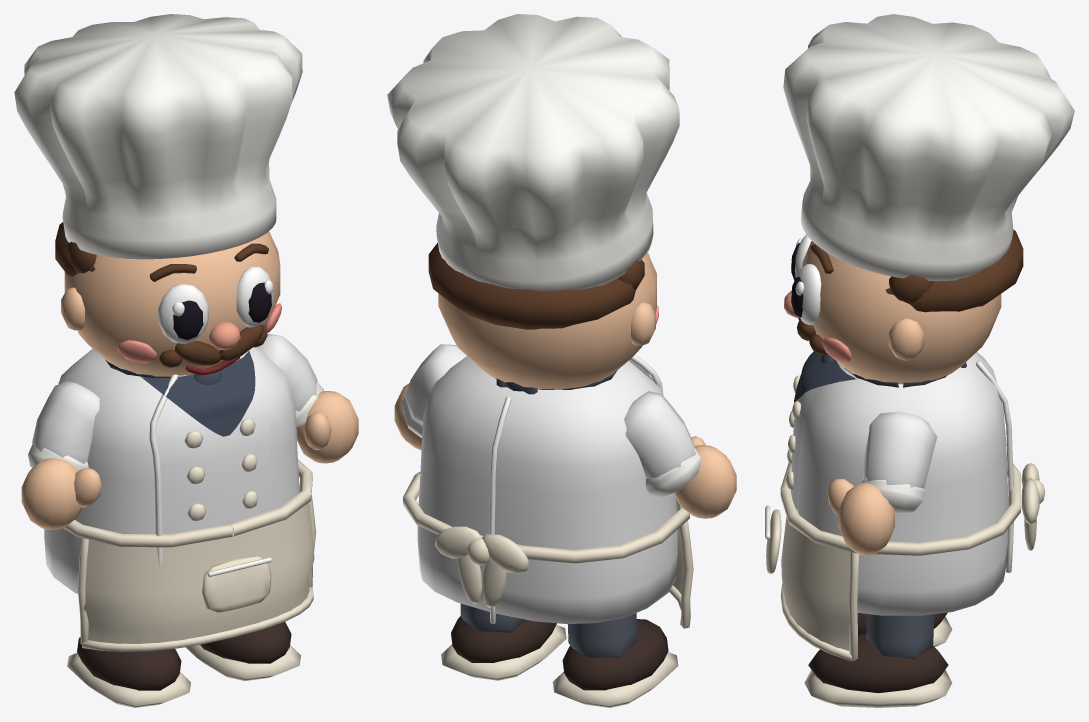
Rendered from chef.glb.
The picture shows the model from 3 angles, left to right: view 1: azimuth 30°, elevation 25°; view 2: azimuth 150°, elevation 25°; view 3: azimuth 270°, elevation 25°; orthographic projection. The views are drawn at different scales.
Parts seen in each view (by area): view 1: Chef, HandR, HandL; view 2: Chef, HandR, HandL; view 3: Chef, HandL.
Boxes of the visible parts, box(x1,y1,x2,y2) form: Chef: box(14, 14, 323, 707); HandR: box(21, 458, 101, 529); HandL: box(296, 391, 358, 463); Chef: box(387, 14, 701, 707); HandR: box(674, 436, 736, 518); HandL: box(394, 383, 421, 450); Chef: box(765, 14, 1074, 707); HandL: box(827, 479, 894, 555).
Bounding box in the file's own units: 0.8104 × 1.45 × 0.6615.
